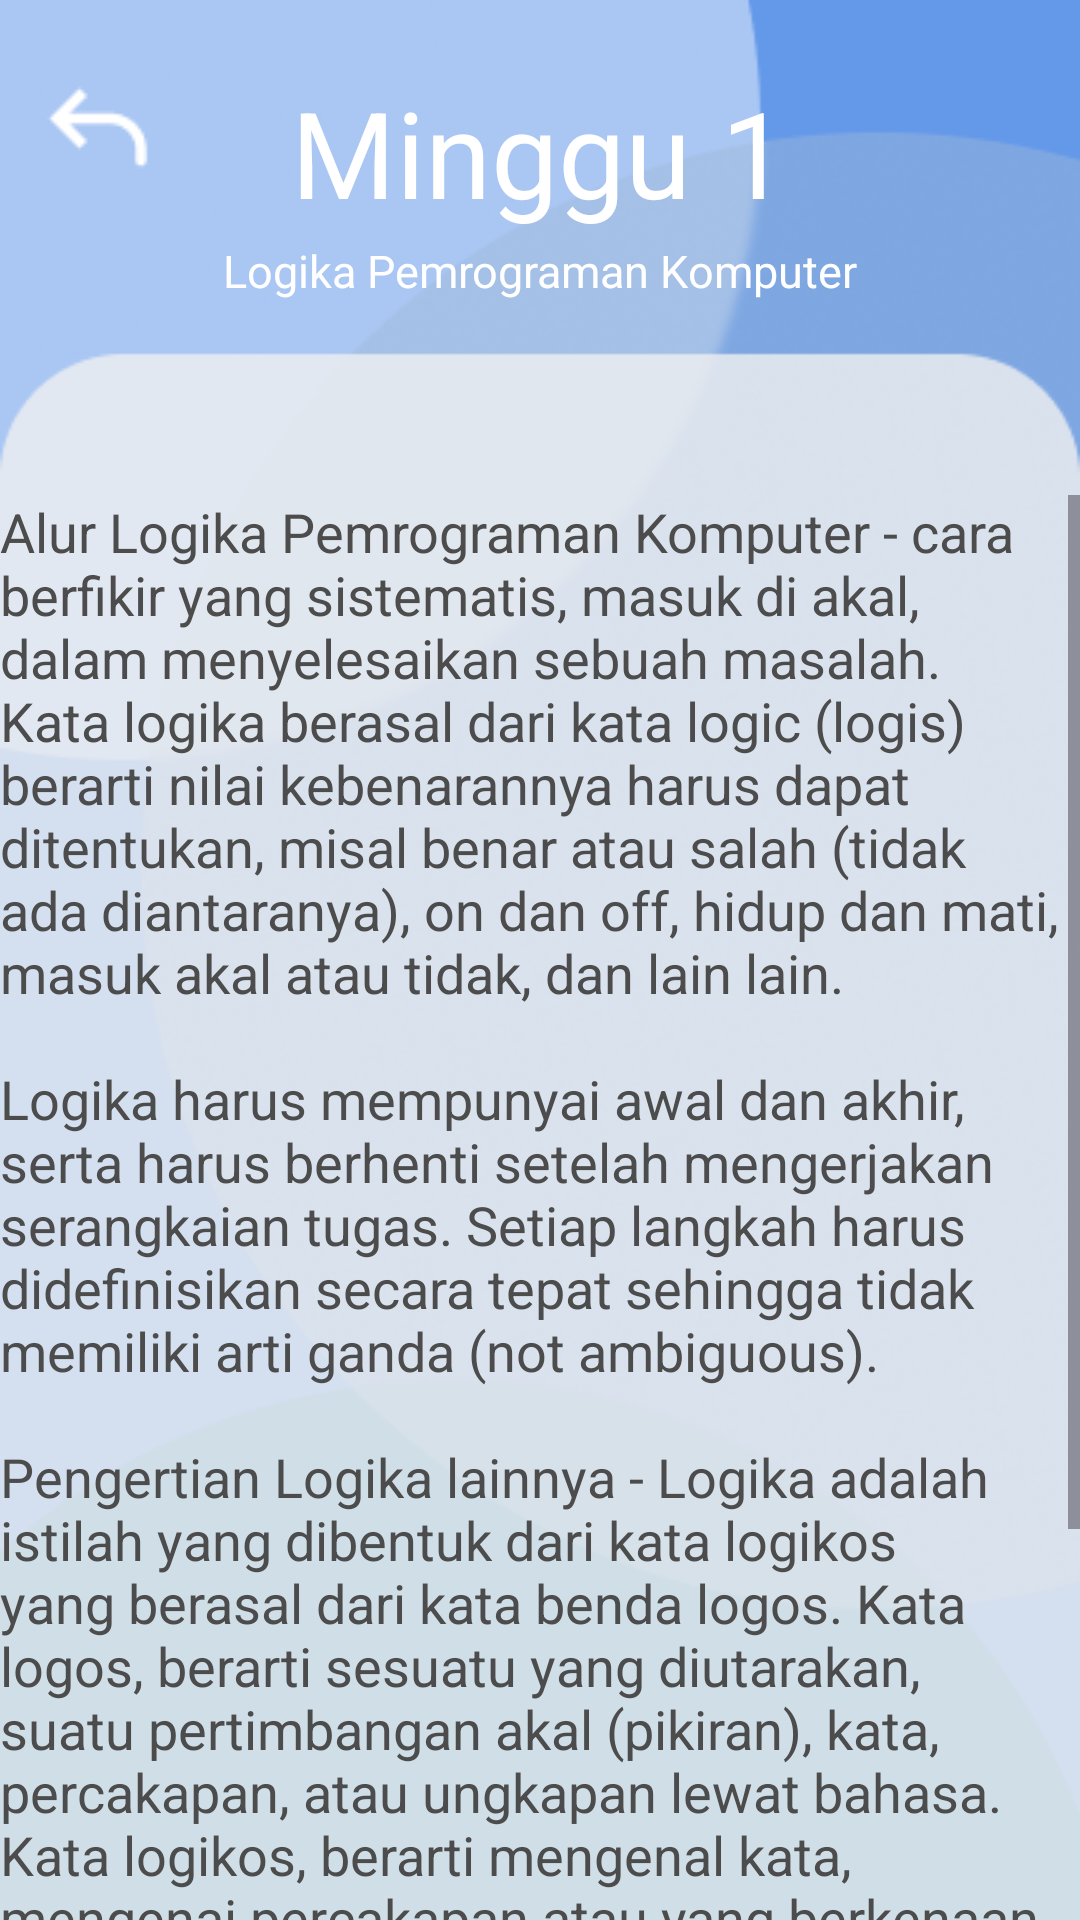

Screen size 1080*1920. Icon name, then its center in pixels as (x=x, y=y):
backbutton: (x=98, y=127)
